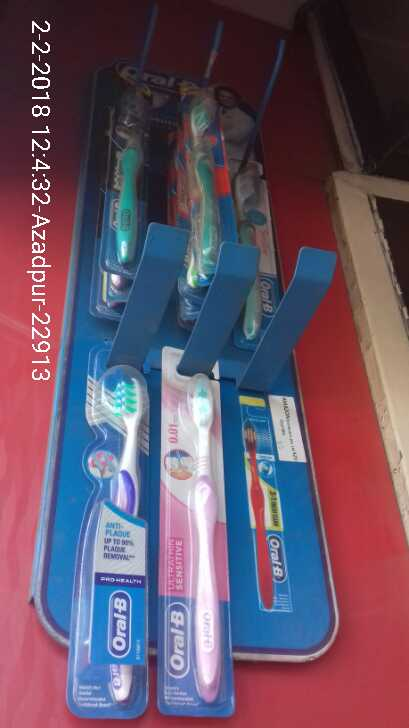oralb: (87, 363, 152, 712), (170, 368, 225, 706)
